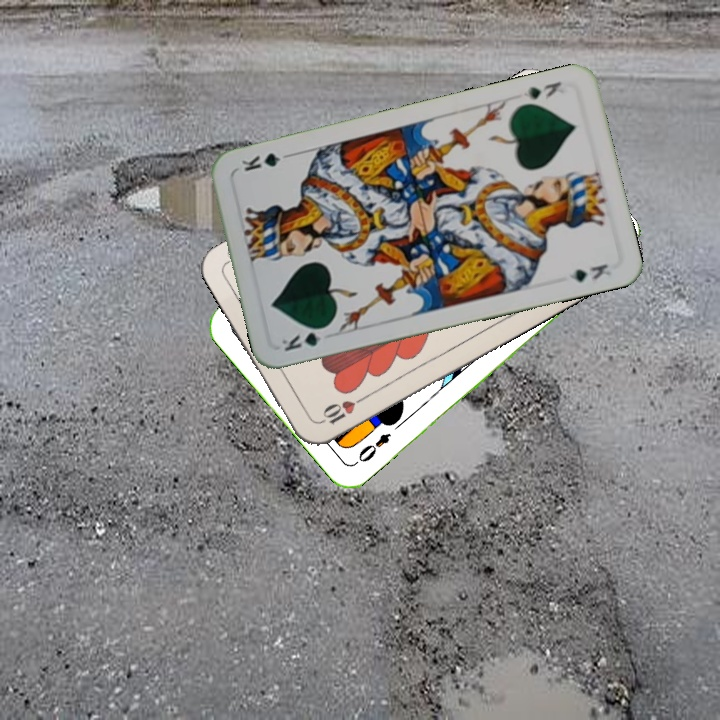EO: (350, 428, 393, 468)
GK: (277, 322, 332, 354), (519, 77, 564, 102)
H10: (314, 392, 368, 427)
